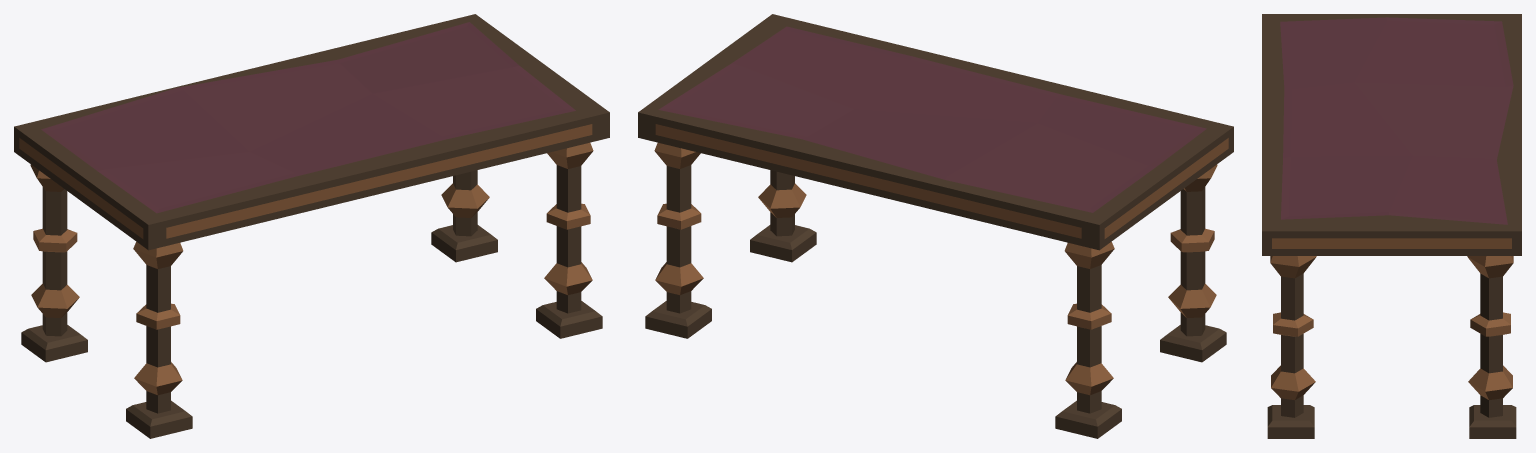
Rendered from SM_Table_Empire.fbx.
The picture shows the model from 3 angles, left to right: view 1: azimuth 30°, elevation 25°; view 2: azimuth 150°, elevation 25°; view 3: azimuth 270°, elevation 25°; orthographic projection. The views are drawn at different scales.
Parts seen in each view (by area): view 1: SM_Table_Empire; view 2: SM_Table_Empire; view 3: SM_Table_Empire.
Boxes of the visible parts, x1=… form: SM_Table_Empire: x1=14, y1=14, x2=609, y2=438; SM_Table_Empire: x1=638, y1=14, x2=1233, y2=438; SM_Table_Empire: x1=1262, y1=14, x2=1521, y2=438.
Size of the model in its own units: 2 by 0.9204 by 1.01.
